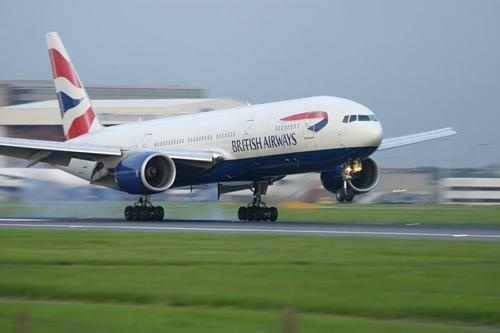aeroplane: (1, 32, 458, 224)
